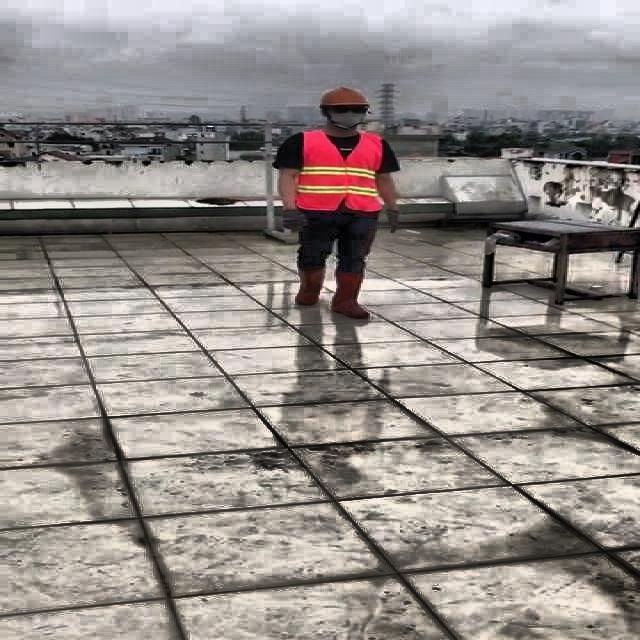safety_helmet: (318, 84, 370, 108)
safety_jacket: (294, 127, 382, 212)
